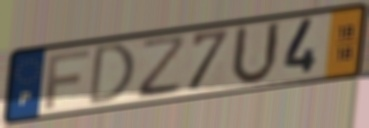4: (282, 15, 323, 81)
7: (186, 27, 231, 95)
D: (86, 40, 138, 109)
F: (42, 47, 92, 111)
U: (229, 19, 283, 88)
Z: (137, 32, 188, 102)
